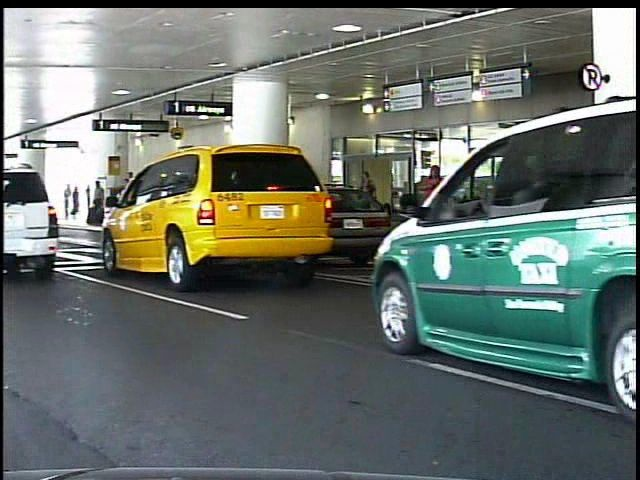person: (424, 165, 456, 251), (360, 169, 383, 226), (94, 178, 111, 229), (73, 185, 85, 225)
